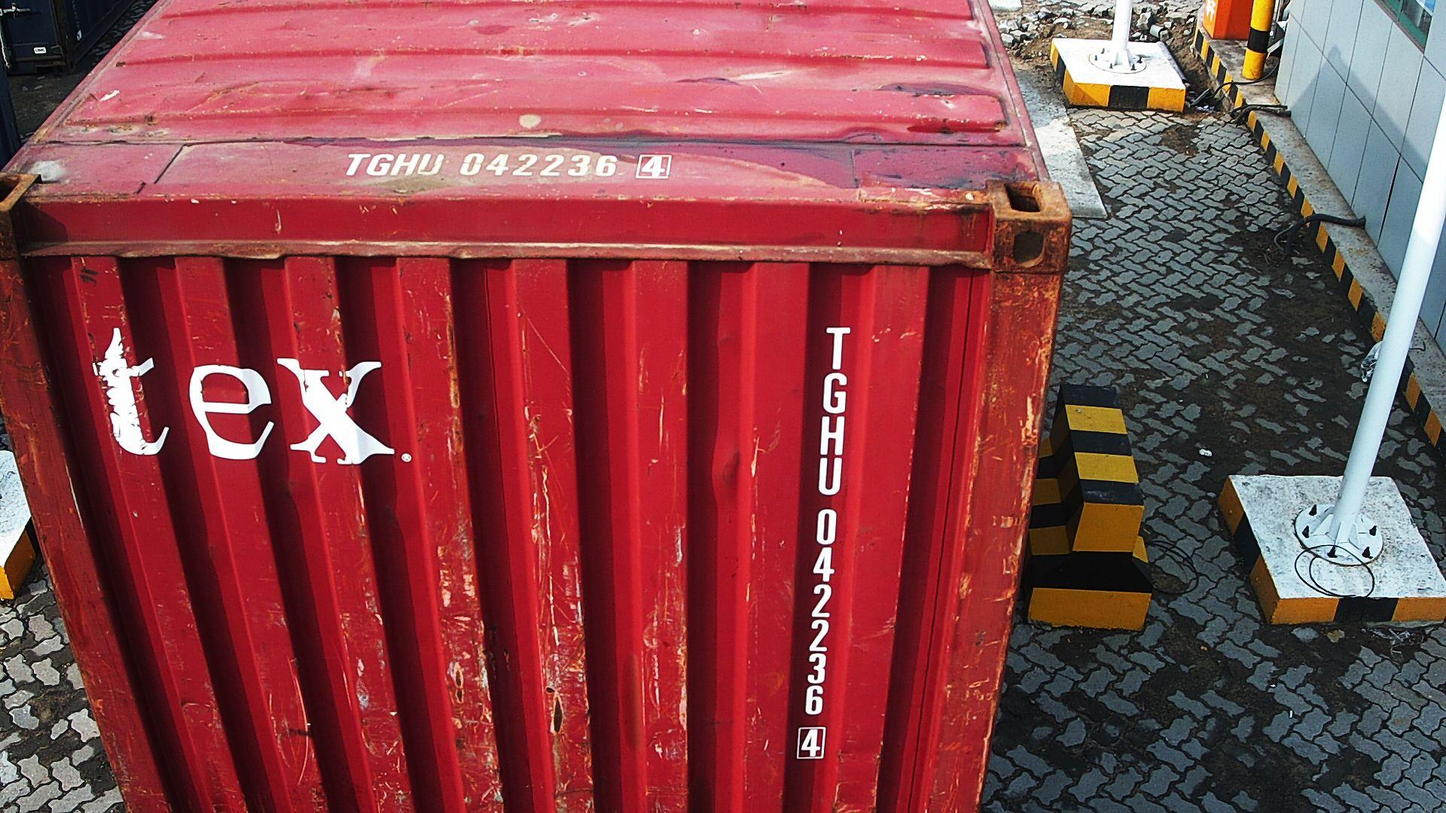container-numbers: (791, 323, 851, 763), (336, 148, 679, 184)
